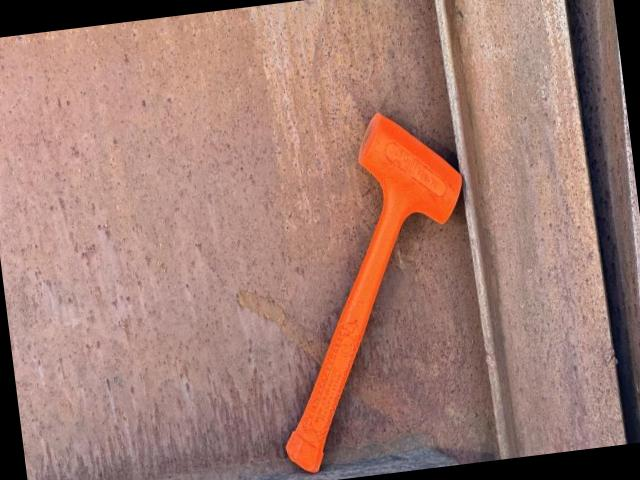hammer: (244, 102, 494, 476)
